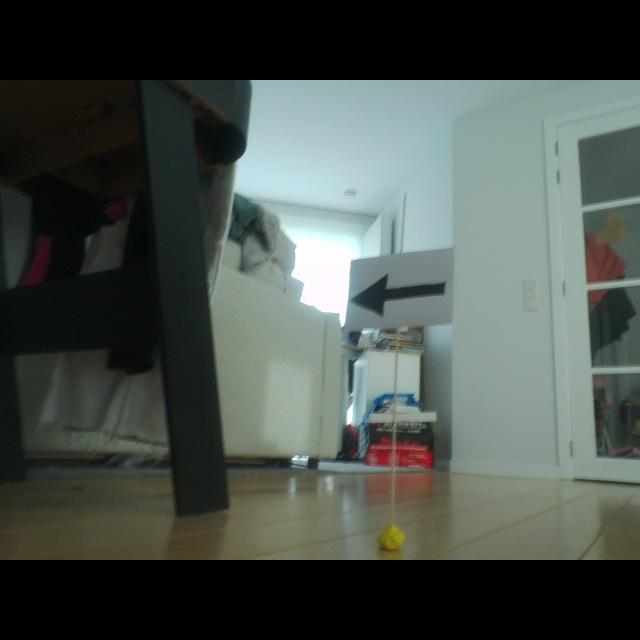balra_nyil: (350, 272, 445, 316)
